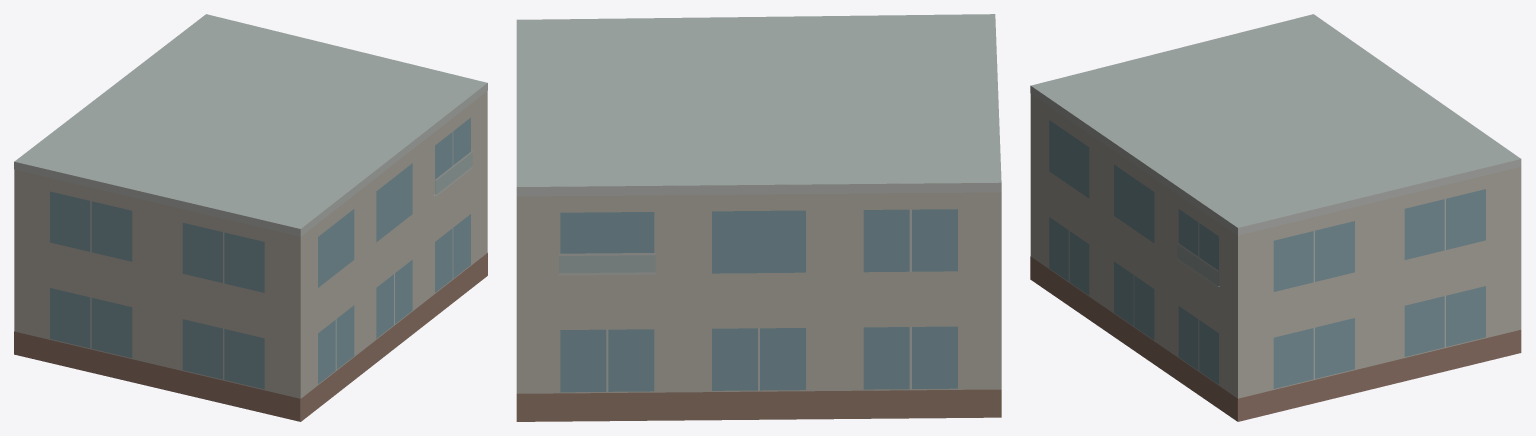
The model's file is survey-upis-32900745.glb.
3 renders of one model, left to right at view 1: azimuth 30°, elevation 25°; view 2: azimuth 150°, elevation 25°; view 3: azimuth 270°, elevation 25°, orthographic. The views are drawn at different scales.
Parts seen in each view (by area): view 1: survey-upis-32900745.tmp; view 2: survey-upis-32900745.tmp; view 3: survey-upis-32900745.tmp.
Boxes of the visible parts, bbox=[...] form: survey-upis-32900745.tmp: bbox=[14, 14, 487, 421]; survey-upis-32900745.tmp: bbox=[516, 14, 1001, 421]; survey-upis-32900745.tmp: bbox=[1030, 14, 1521, 421].
Size of the model in its own units: 14.44 by 6.1 by 14.
